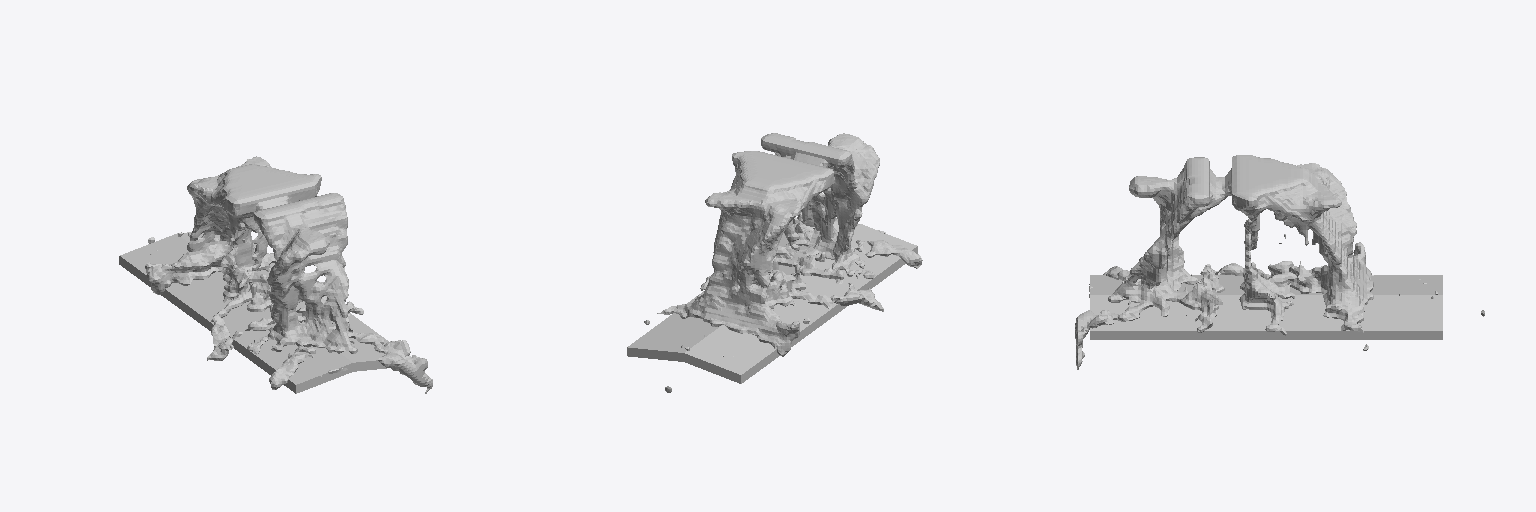
Rendered from Watersim_000030.obj.
The picture shows the model from 3 angles: view 1: azimuth 30°, elevation 25°; view 2: azimuth 150°, elevation 25°; view 3: azimuth 270°, elevation 25°; orthographic projection.
Visible parts, largest first — view 1: Domain_Cube.006, Straße_Cube.007; view 2: Domain_Cube.006, Straße_Cube.007; view 3: Domain_Cube.006, Straße_Cube.007.
Boxes of the visible parts, box(x1,y1,x2,y2) form: Domain_Cube.006: box(145, 156, 432, 393); Straße_Cube.007: box(119, 232, 388, 393); Domain_Cube.006: box(644, 133, 922, 392); Straße_Cube.007: box(627, 223, 917, 383); Domain_Cube.006: box(1075, 155, 1484, 369); Straße_Cube.007: box(1090, 275, 1442, 339).
Size of the model in its own units: 3.27 by 3.1 by 7.03.